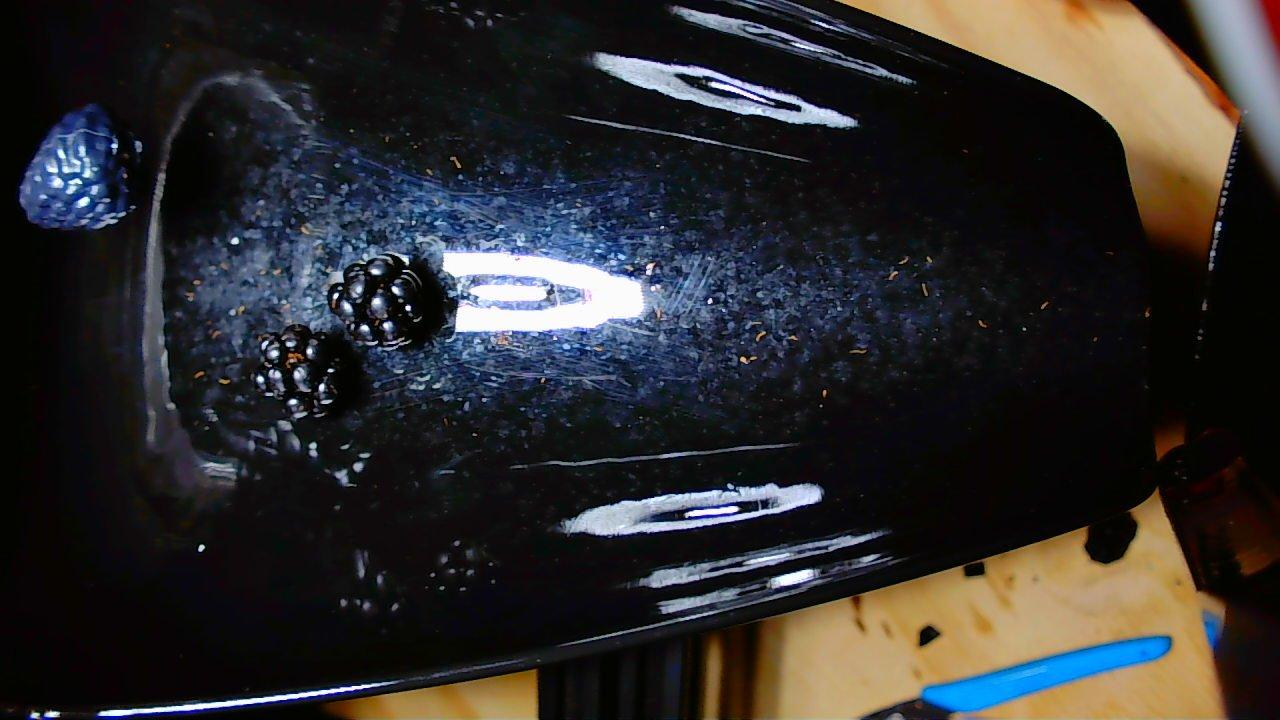berry: (19, 104, 140, 229), (329, 254, 425, 347), (251, 324, 346, 416)
